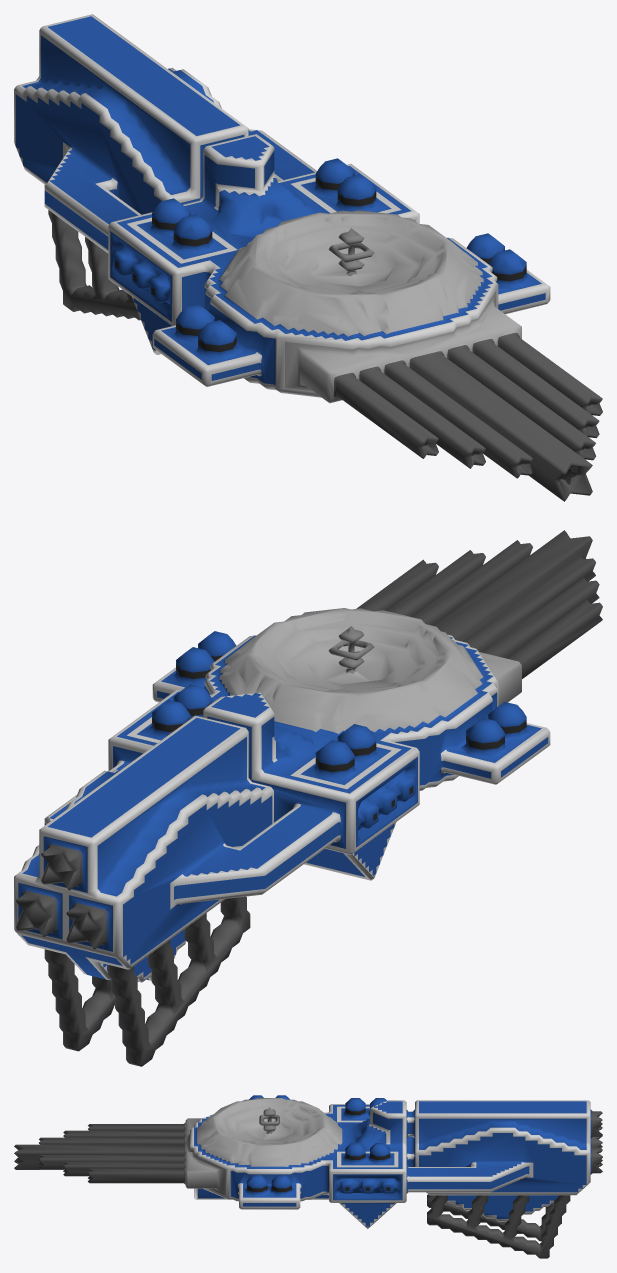
Rendered from diadochi-5-khagan-class.obj.
3 views of the same model, one above another, from view 1: azimuth 30°, elevation 25°; view 2: azimuth 150°, elevation 25°; view 3: azimuth 270°, elevation 25° (orthographic). The views are drawn at different scales.
Bounding box in the file's own units: 55 × 38 × 144.
Materials: 1 (1 with a texture image).
